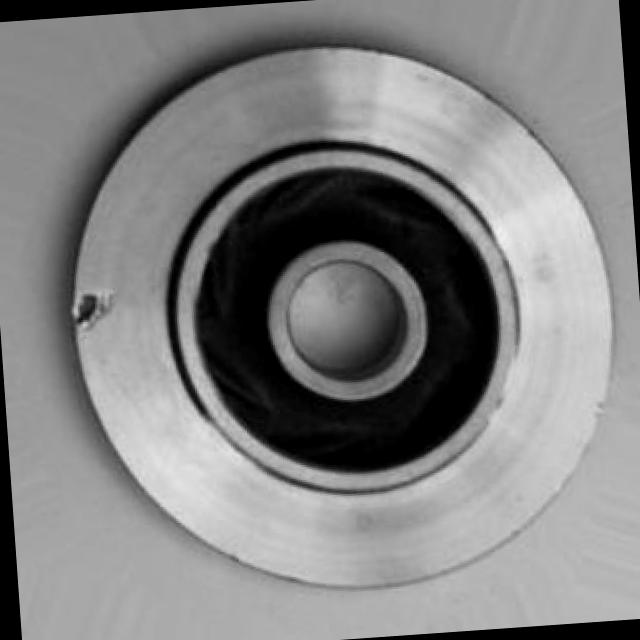Defect: (66, 285, 118, 339)
